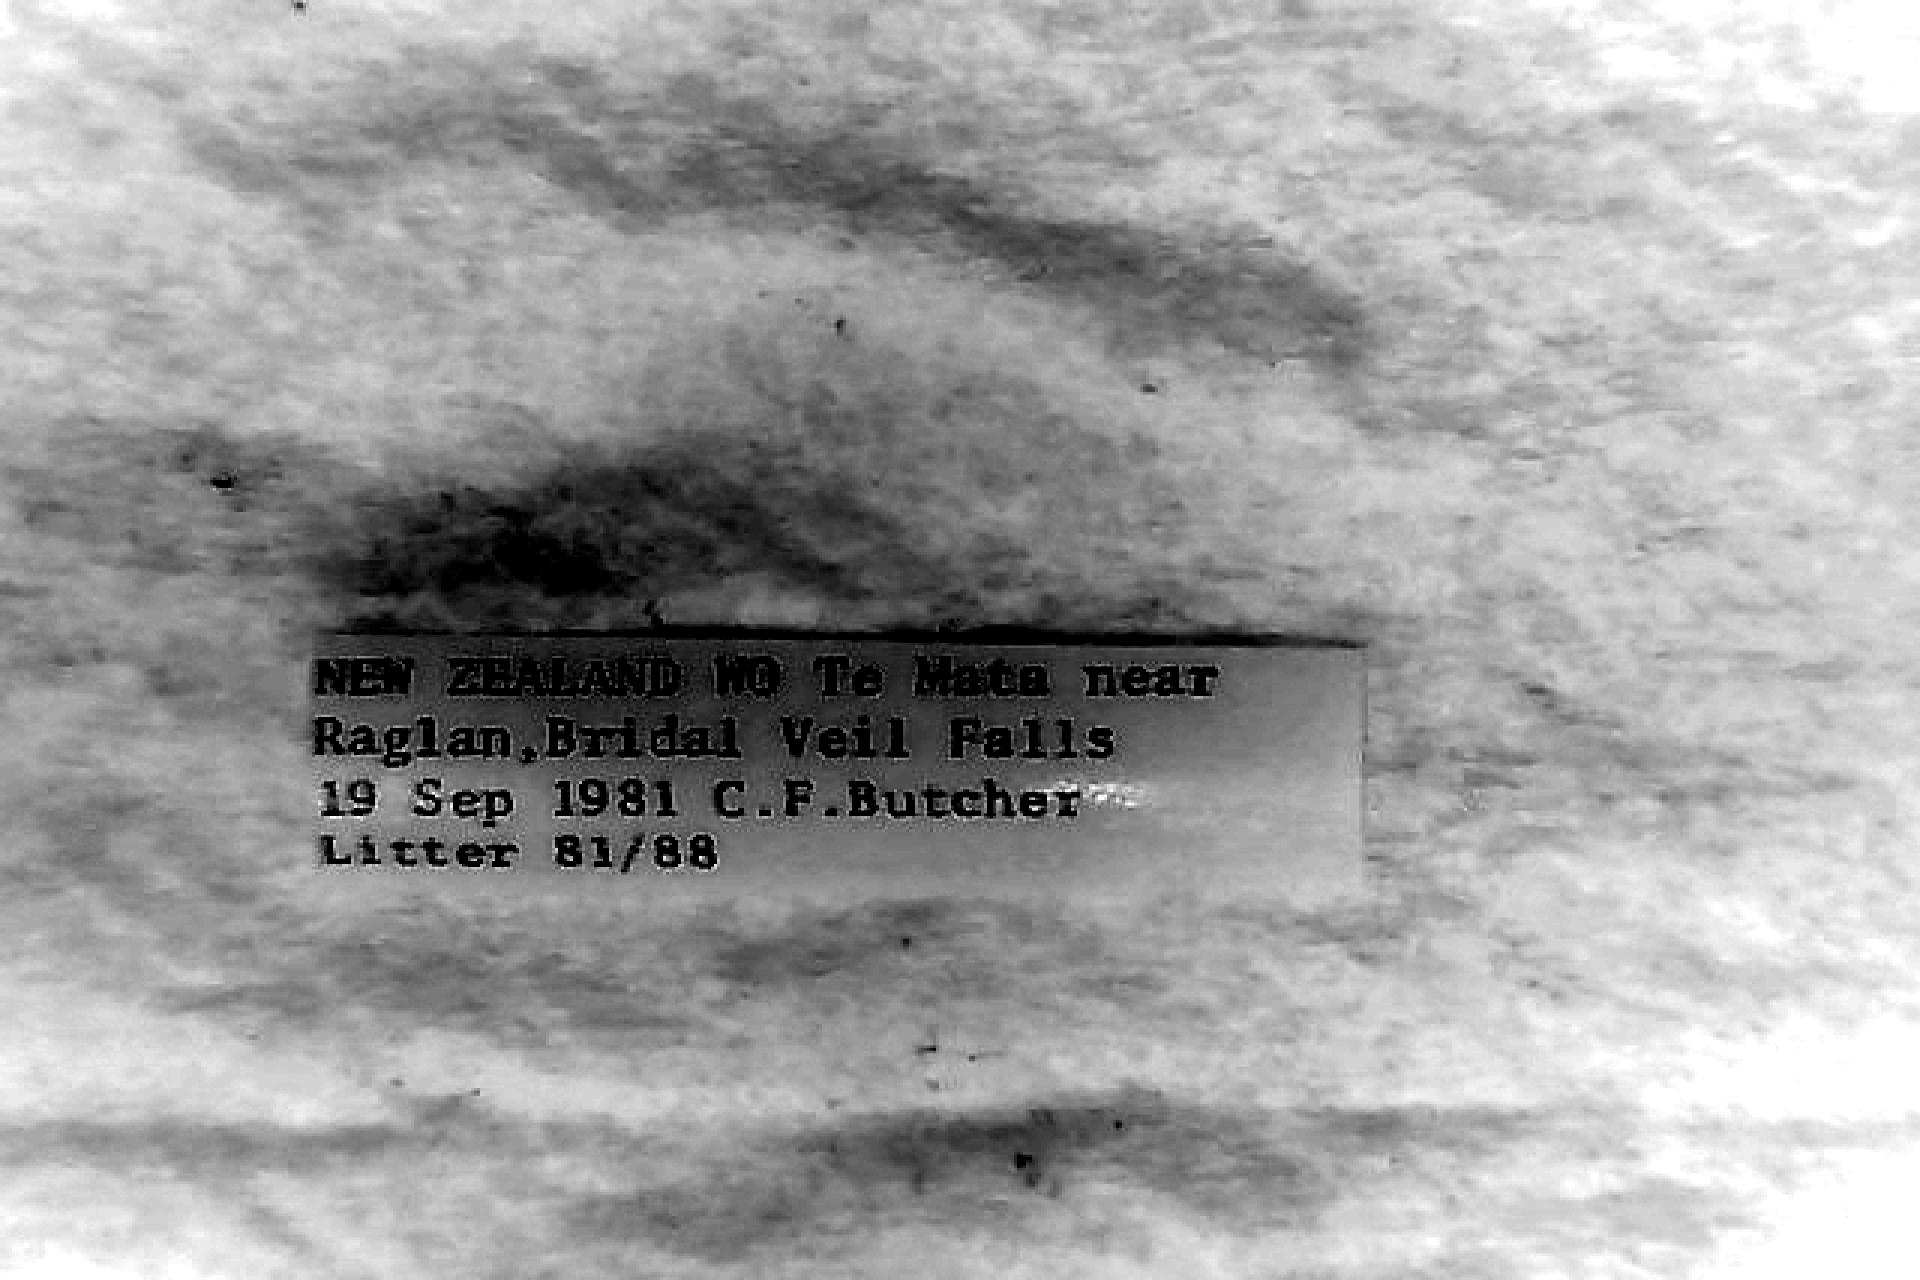typed_label: (311, 637, 1366, 897)
